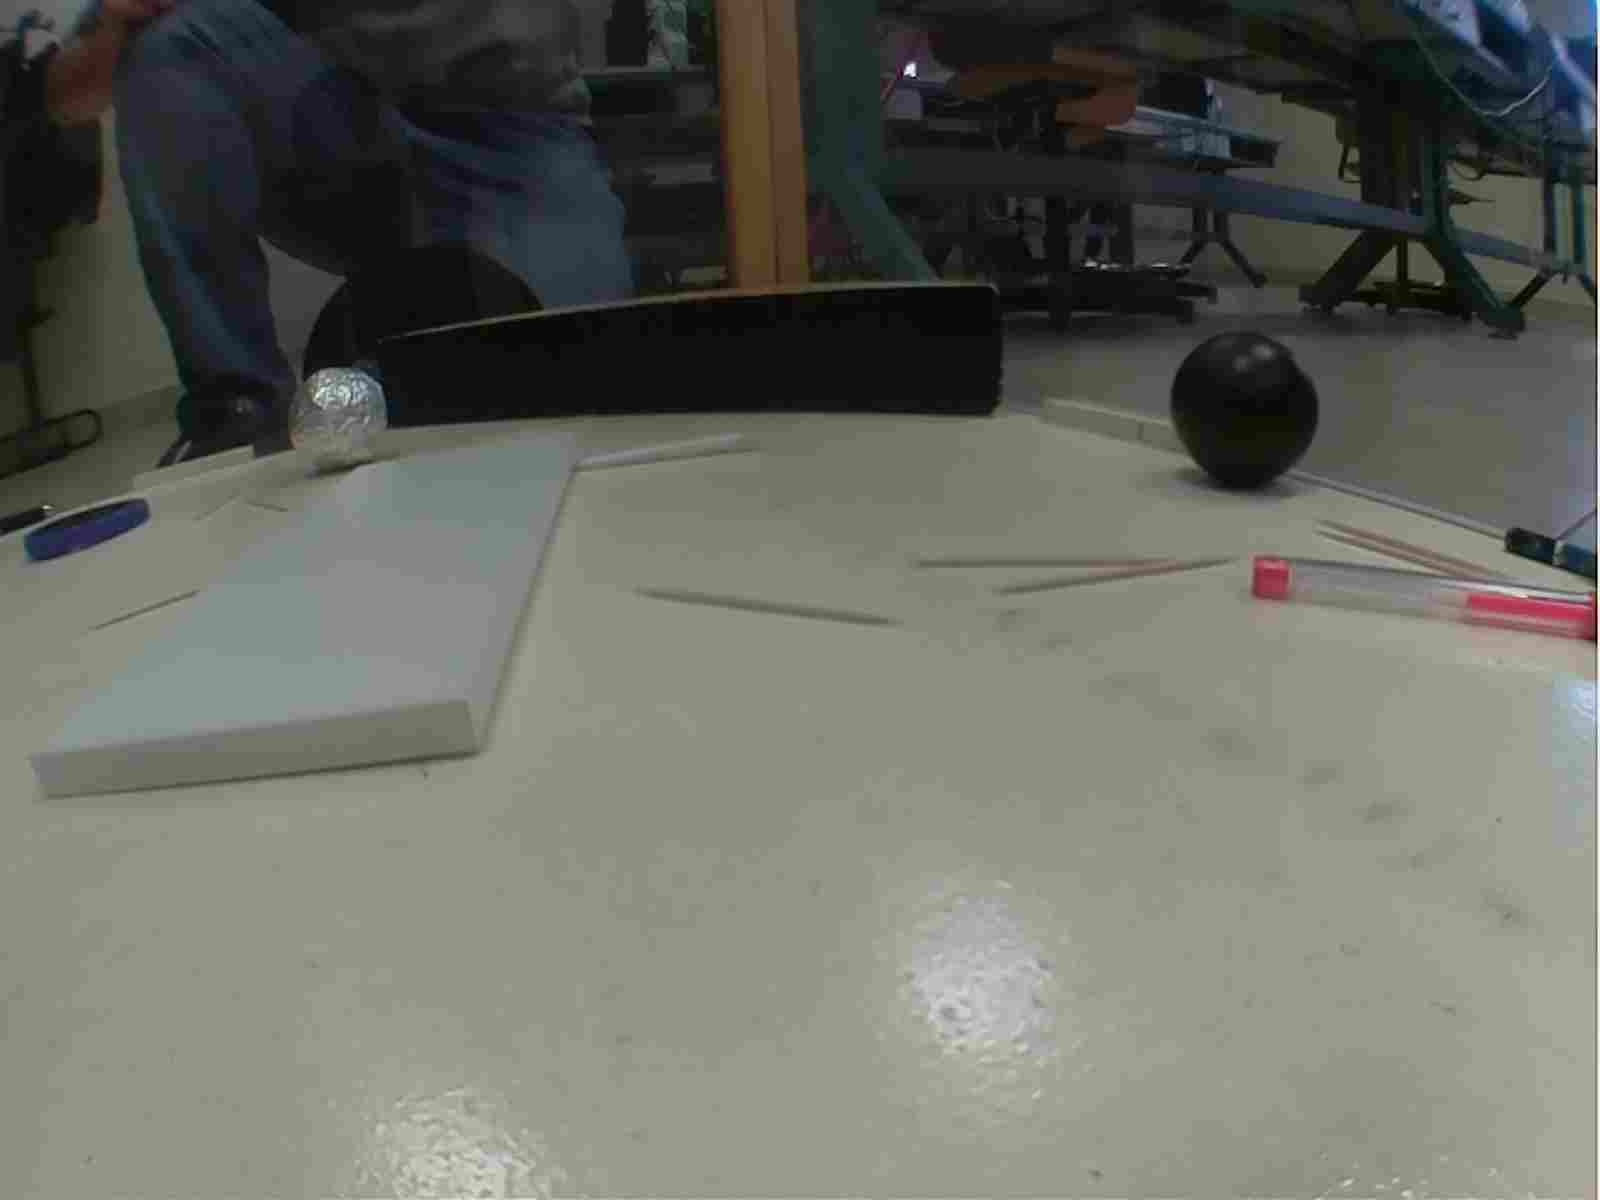bianca: (277, 371, 394, 471)
nera: (1173, 328, 1323, 489)
